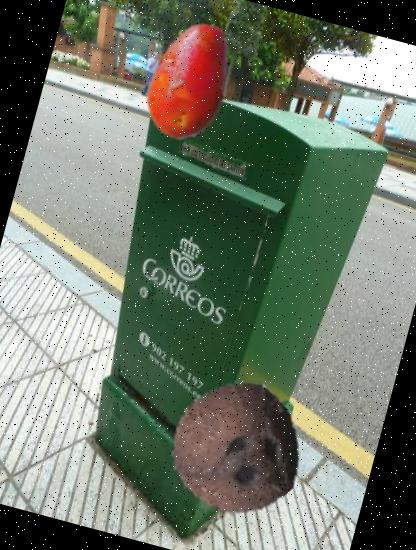Cocos: (156, 369, 320, 532)
Potato: (112, 6, 264, 158)
